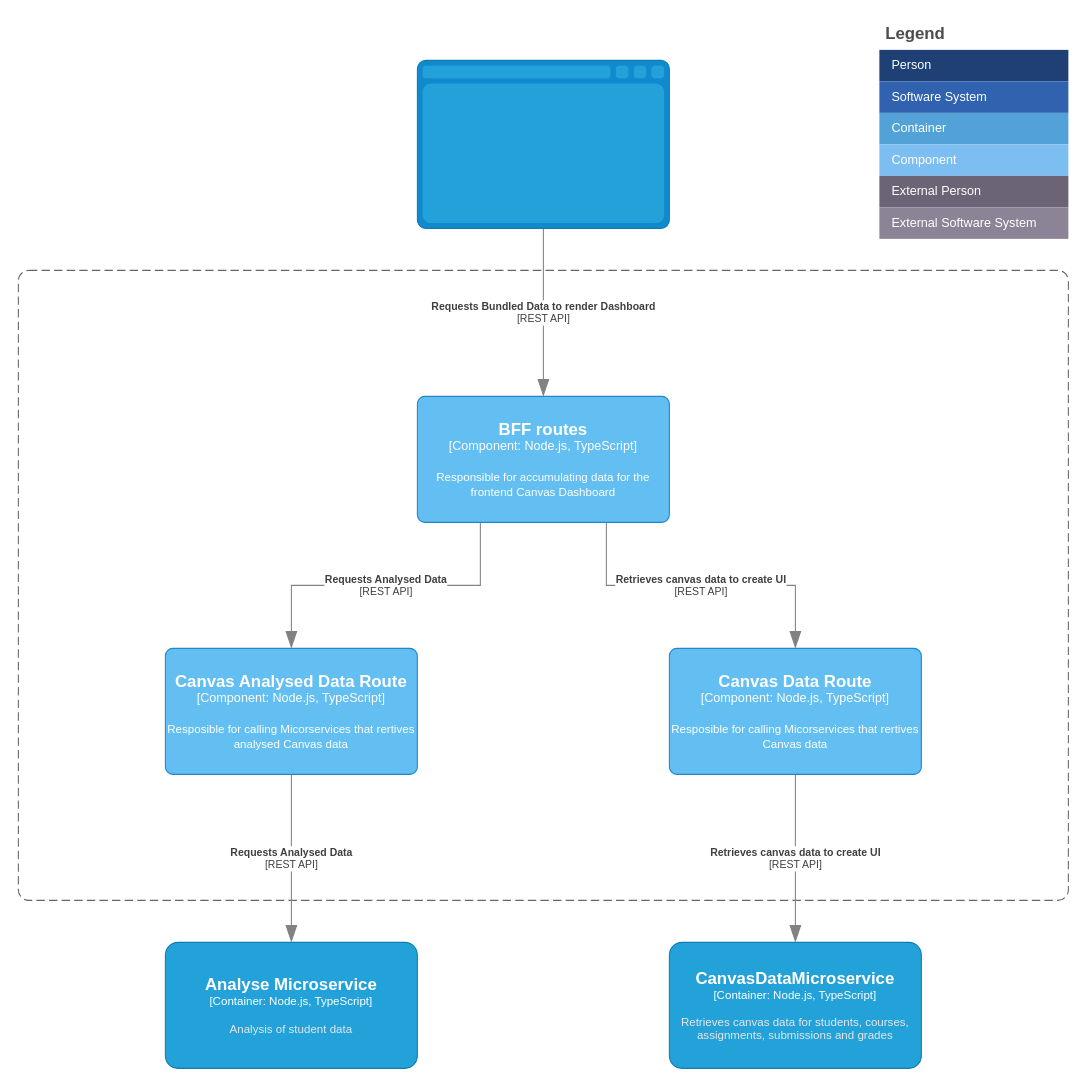
Image size: 1087x1087. Some labels were removed from this diagram. The box of each missing label's shape, as (x1, y1, x2, y2) in pixels:
Canvas Dashboard Gateway [Container]: (17, 269, 1068, 900)
Dashboard [Container: Canvas LTI] Displays information about student performance: (416, 59, 669, 228)
